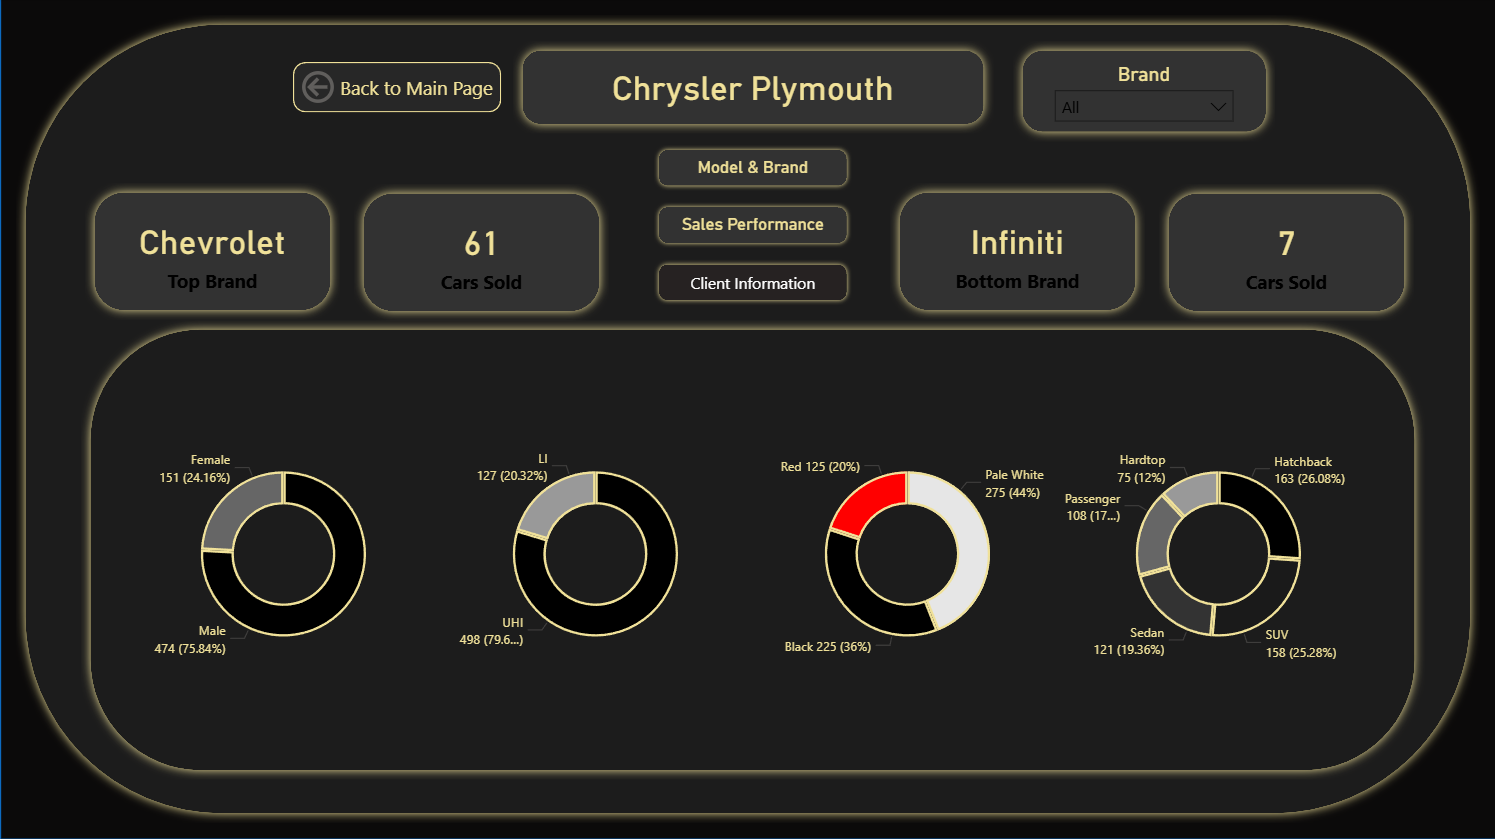

The dashboard page shown, as its layout file describes it:
{"tool":"powerbi","page":{"name":"Drill Through (Dealership)","canvas":[1280,720],"ordinal":1},"visuals":[{"type":"shape","title":"Final BG","box":[0,0.2,1280,719.8],"z":0},{"type":"shape","title":"Visual BG","box":[438.1,36.6,410.6,79.2],"z":0,"group":"g5"},{"type":"shape","title":"Visual BG","box":[865.7,37,224.4,85.7],"z":0,"group":"g9"},{"type":"group","id":"g1","title":"Bottom Brand (Brand)","box":[66.6,157.8,229.9,116.9],"z":0,"group":"g7"},{"type":"shape","title":"Visual BG","box":[72.4,157.8,218.1,116.9],"z":0,"group":"g1"},{"type":"group","id":"g2","title":"Bottom Brand (Brand)","box":[754.5,157.8,229.9,116.9],"z":0,"group":"g6"},{"type":"shape","title":"Visual BG","box":[760.3,157.8,218.1,116.9],"z":0,"group":"g2"},{"type":"shape","title":"Visual BG","box":[302.4,158.8,218.1,116.9],"z":0,"group":"g3"},{"type":"shape","title":"Visual BG","box":[990.3,158.8,218.1,116.9],"z":0,"group":"g4"},{"type":"shape","title":"Graph BG","box":[69.1,275.4,1148.5,393.1],"z":0,"group":"g8"},{"type":"shape","title":"Dashboard BG","box":[13.4,14.4,1251.7,690.9],"z":1000,"group":"g10"},{"type":"card","fields":{"Values":["Min(Main Reference.Dealer_Name)"]},"box":[459.8,50.5,367.6,50.2],"z":1000,"group":"g5"},{"type":"slicer","title":"Brand","fields":{"Values":["Main Reference.Brand"]},"box":[891.6,55,172.5,75.6],"z":1000,"group":"g9"},{"type":"group","id":"g3","title":"Cars Sold (Brand)","box":[296.5,158.8,230.9,116.9],"z":1000,"group":"g7"},{"type":"group","id":"g4","title":"Cars Sold (Brand)","box":[984.4,158.8,230.9,116.9],"z":1000,"group":"g6"},{"type":"card","fields":{"Values":["Min(Main Reference.Brand)"]},"box":[66.6,168.6,229.9,96.3],"z":1000,"group":"g1"},{"type":"card","fields":{"Values":["Min(Main Reference.Brand)"]},"box":[754.5,168.6,229.9,96.3],"z":1000,"group":"g2"},{"type":"card","fields":{"Values":["CountNonNull(Main Reference.Brand)"]},"box":[296.5,169.6,229.9,96.3],"z":1000,"group":"g3"},{"type":"card","fields":{"Values":["CountNonNull(Main Reference.Brand)"]},"box":[984.4,169.6,229.9,96.3],"z":1000,"group":"g4"},{"type":"donutChart","fields":{"Category":["Main Reference.Body Style"],"Y":["CountNonNull(Main Reference.Body Style)"]},"box":[892.1,375,300,200],"z":1000,"group":"g8"},{"type":"group","id":"g5","title":"Header","box":[438.1,36.6,410.6,79.2],"z":2000,"group":"g10"},{"type":"donutChart","fields":{"Category":["Main Reference.Gender"],"Y":["CountNonNull(Main Reference.Gender)"]},"box":[92,375,300,200],"z":2000,"group":"g8"},{"type":"group","id":"g6","title":"Bottom Performers","box":[754.5,157.8,460.1,118.4],"z":3000,"group":"g10"},{"type":"donutChart","fields":{"Category":["Main Reference.Color"],"Y":["CountNonNull(Main Reference.Color)"]},"box":[625.4,375,300,200],"z":3000,"group":"g8"},{"type":"donutChart","fields":{"Category":["Main Reference.Annual Income Range (DAX & Short)"],"Y":["CountNonNull(Main Reference.Annual Income Range (DAX & Short))"]},"box":[358.7,375,300,200],"z":3500,"group":"g8"},{"type":"group","id":"g7","title":"Top Performers","box":[66.6,157.8,460.1,118.4],"z":4000,"group":"g10"},{"type":"group","id":"g8","title":"Client Information","box":[69.1,275.4,1148.5,393.1],"z":8000,"group":"g10"},{"type":"group","id":"g9","title":"Brand Slicer","box":[865.7,37,223.4,91.9],"z":9500,"group":"g10"},{"type":"actionButton","title":"Return Button","box":[250.1,54.4,178,43.1],"z":9750,"group":"g10"},{"type":"bookmarkNavigator","box":[558.9,125.2,169.1,139.5],"z":10000,"group":"g10"},{"type":"group","id":"g10","title":"Main Dashboard","box":[13.4,14.4,1252.2,691.7],"z":10001}]}

Visuals, with their boxes in screenshot pixels (x1, y1, x2, y2), scaled from the page's 1280x720 canvas onto the 1495x839 screenshot:
"Final BG" shape: box(0, 0, 1494, 838)
"Visual BG" shape: box(512, 43, 991, 135)
"Visual BG" shape: box(1011, 43, 1273, 143)
"Bottom Brand (Brand)" group: box(78, 184, 346, 320)
"Visual BG" shape: box(85, 184, 339, 320)
"Bottom Brand (Brand)" group: box(881, 184, 1150, 320)
"Visual BG" shape: box(888, 184, 1143, 320)
"Visual BG" shape: box(353, 185, 608, 321)
"Visual BG" shape: box(1157, 185, 1411, 321)
"Graph BG" shape: box(81, 321, 1422, 779)
"Dashboard BG" shape: box(16, 17, 1478, 822)
card - Min(Main Reference.Dealer_Name): box(537, 59, 966, 117)
"Brand" slicer: box(1041, 64, 1243, 152)
"Cars Sold (Brand)" group: box(346, 185, 616, 321)
"Cars Sold (Brand)" group: box(1150, 185, 1419, 321)
card - Min(Main Reference.Brand): box(78, 196, 346, 309)
card - Min(Main Reference.Brand): box(881, 196, 1150, 309)
card - CountNonNull(Main Reference.Brand): box(346, 198, 615, 310)
card - CountNonNull(Main Reference.Brand): box(1150, 198, 1418, 310)
donutChart - Main Reference.Body Style x CountNonNull(Main Reference.Body Style): box(1042, 437, 1392, 670)
"Header" group: box(512, 43, 991, 135)
donutChart - Main Reference.Gender x CountNonNull(Main Reference.Gender): box(107, 437, 458, 670)
"Bottom Performers" group: box(881, 184, 1419, 322)
donutChart - Main Reference.Color x CountNonNull(Main Reference.Color): box(730, 437, 1081, 670)
donutChart - Main Reference.Annual Income Range (DAX & Short) x CountNonNull(Main Reference.Annual Income Range (DAX & Short)): box(419, 437, 769, 670)
"Top Performers" group: box(78, 184, 615, 322)
"Client Information" group: box(81, 321, 1422, 779)
"Brand Slicer" group: box(1011, 43, 1272, 150)
"Return Button" actionButton: box(292, 63, 500, 114)
bookmarkNavigator: box(653, 146, 850, 308)
"Main Dashboard" group: box(16, 17, 1478, 823)
